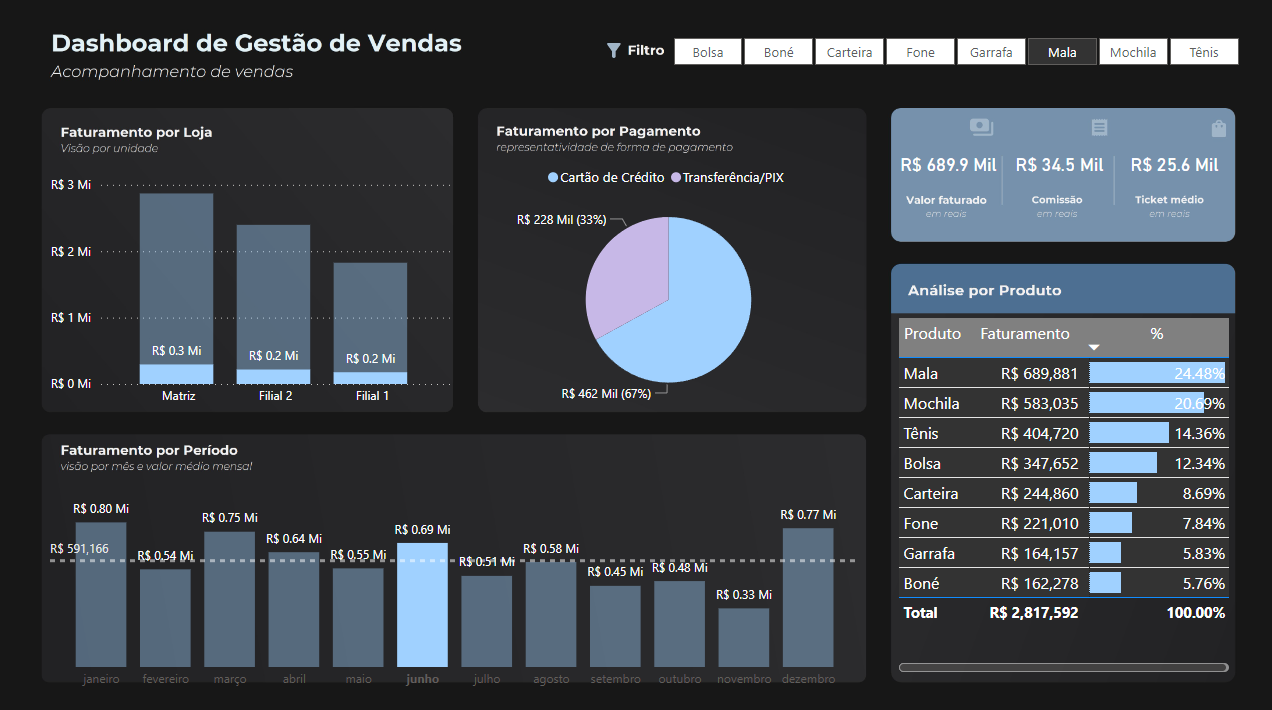

The page's visual inventory and layout, read from the dashboard file:
{"tool":"powerbi","page":{"name":"Página 1","canvas":[1280,720],"ordinal":0},"visuals":[{"type":"card","fields":{"Values":["Sum(Vendas.Valor Venda)"]},"box":[894,139,113,58],"z":0},{"type":"card","fields":{"Values":["Avg(Vendas.Valor Venda)"]},"box":[1115.6,138.9,121.1,57.8],"z":1000},{"type":"clusteredColumnChart","title":"Faturamento por período","fields":{"Category":["Vendas.Data Pedido.Variation.Hierarquia de datas.Mês"],"Y":["Sum(Vendas.Valor Venda)"]},"box":[46.5,485.6,820.1,214.2],"z":2000},{"type":"pieChart","title":"Faturamento por pagamento","fields":{"Y":["Sum(Vendas.Valor Venda)"],"Category":["Vendas.Pagamento"]},"box":[474.3,160,392.9,257.1],"z":3000},{"type":"clusteredColumnChart","title":"Faturamento por loja","fields":{"Y":["Sum(Vendas.Valor Venda)"],"Category":["lojas.nome_loja"]},"box":[46.7,160,410,256.7],"z":4000},{"type":"tableEx","fields":{"Values":["Vendas.Produto","Sum(Vendas.Valor Venda)","Divide(Sum(Vendas.Valor Venda), ScopedEval(Sum(Vendas.Valor Venda), []))"]},"box":[894.7,316.1,341.6,363.5],"z":5000},{"type":"slicer","fields":{"Values":["Vendas.Produto"]},"box":[650,33.8,615,37.5],"z":6000},{"type":"card","fields":{"Values":["Vendas.comissao"]},"box":[1007,139,109,58],"z":7000}]}

Visuals, with their boxes in screenshot pixels (x1, y1, x2, y2), scaled from the page's 1280x720 canvas onto the 1272x710 screenshot:
card - Sum(Vendas.Valor Venda): 888:137:1001:194
card - Avg(Vendas.Valor Venda): 1109:137:1229:194
"Faturamento por período" clusteredColumnChart: 46:479:861:690
"Faturamento por pagamento" pieChart: 471:158:862:411
"Faturamento por loja" clusteredColumnChart: 46:158:454:411
tableEx - Vendas.Produto x Sum(Vendas.Valor Venda): 889:312:1229:670
slicer - Vendas.Produto: 646:33:1257:70
card - Vendas.comissao: 1001:137:1109:194
